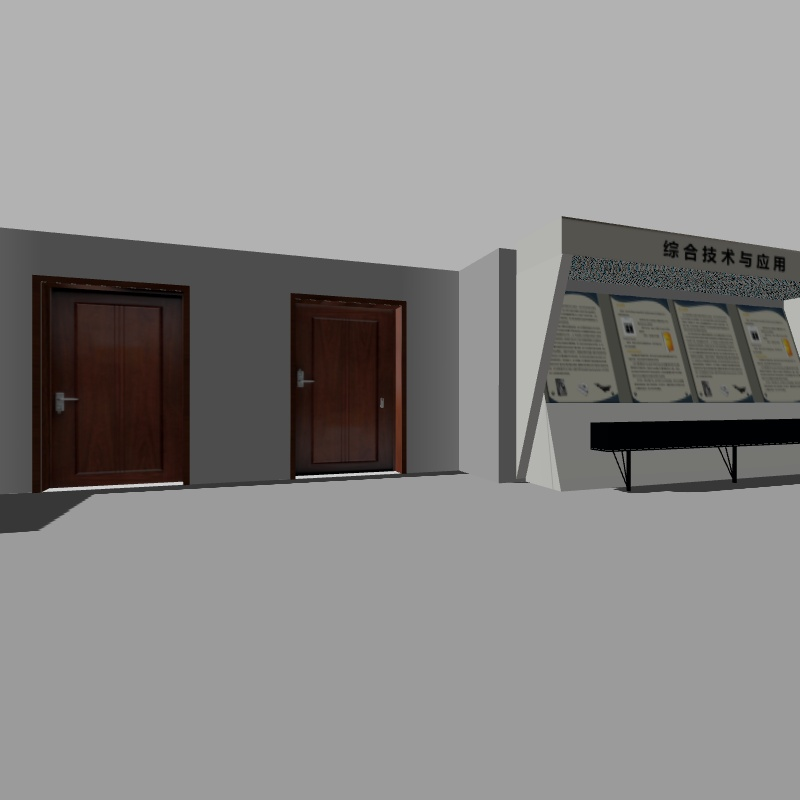handle: (51, 384, 84, 415), (292, 364, 317, 390)
